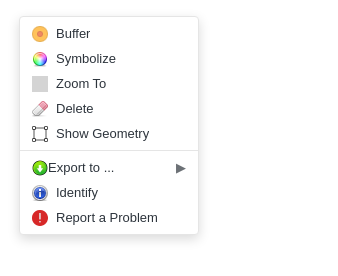
Test case: MyMapsItemPopup Component › Export Submenu › should hide export submenu when mouse leaves
The width and height of the screenshot is (338, 276).
Hover over the text "Export to ..." at (109, 168), box [20,155,198,180]
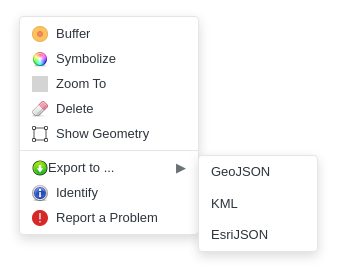
Expected: the text "GeoJSON" is shown, [211,162,270,182]
Move the pointer off the text "Export to ...", box [20,155,198,180]
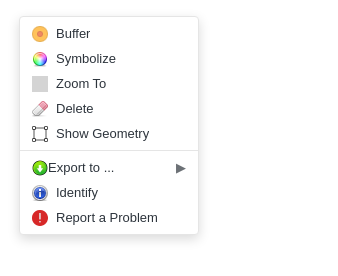
Expected: the text "GeoJSON" is gone
